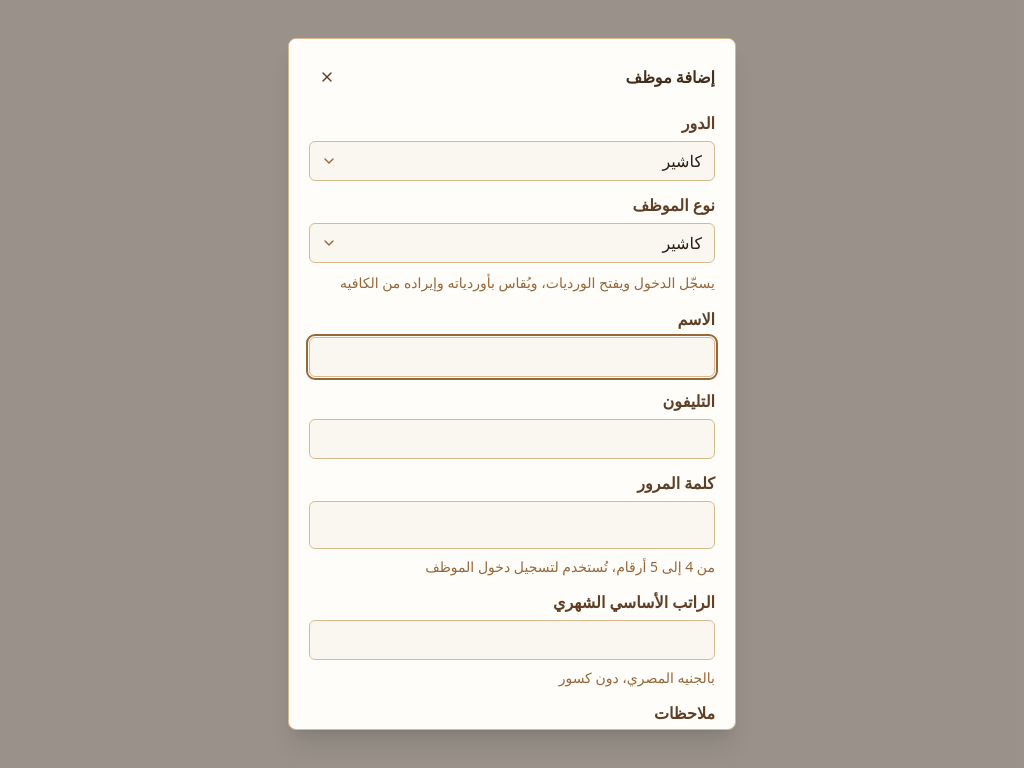
Test: EmployeeDialog — create, credentials › refuses a short password before the request is sent
The width and height of the screenshot is (1024, 768).
Type "سعيد" into the field labelled "الاسم" at (512, 356), box [309,336,715,376]
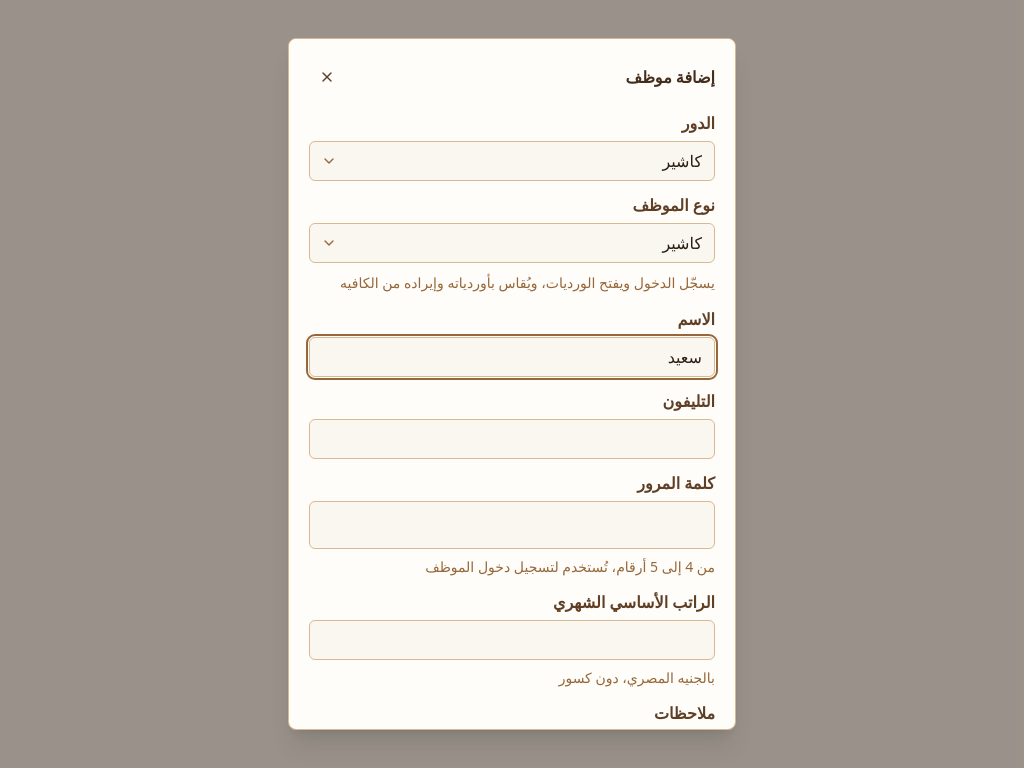
Type "123" into the password field labelled "كلمة المرور" at (512, 524), box [309,500,715,548]
(page scrolled)
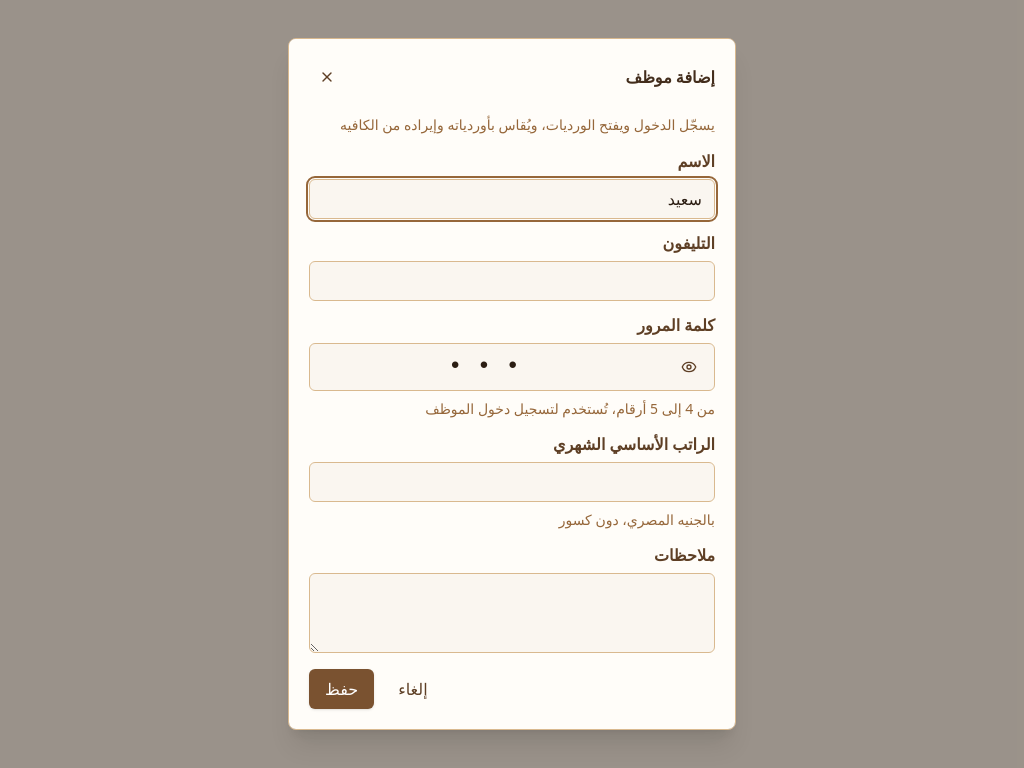
Click the button "حفظ" at (342, 689), box [309,669,374,709]
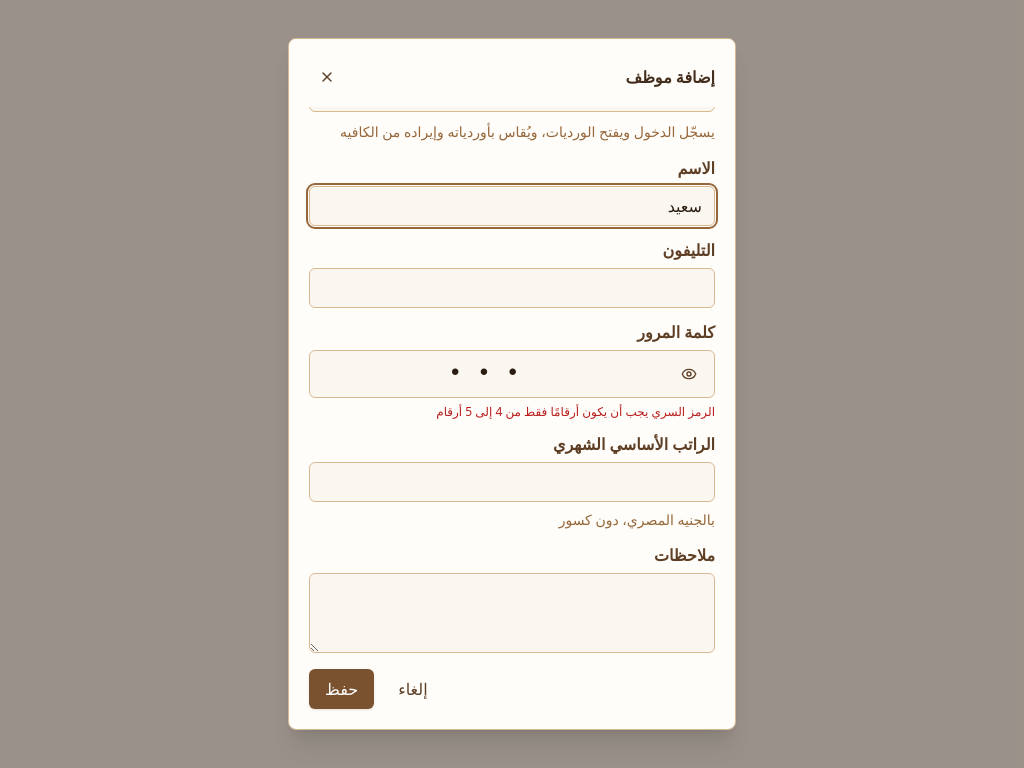
Now the text "الرمز السري يجب أن يكون أرقامًا فقط من 4 إلى 5 أرقام" is shown, box [436,402,715,420]
